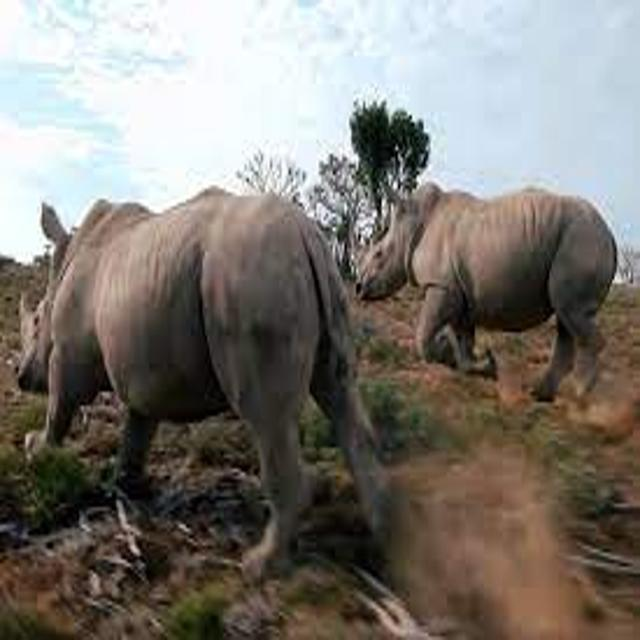Rinoceros: (4, 179, 398, 572), (335, 154, 640, 402)
